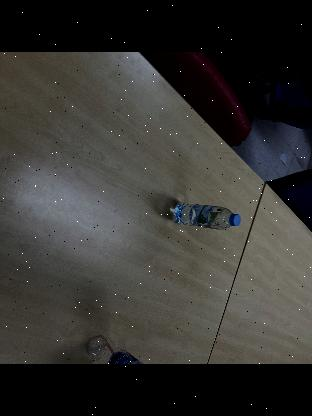Plastic Bottle: (168, 202, 240, 230), (86, 336, 152, 364)
